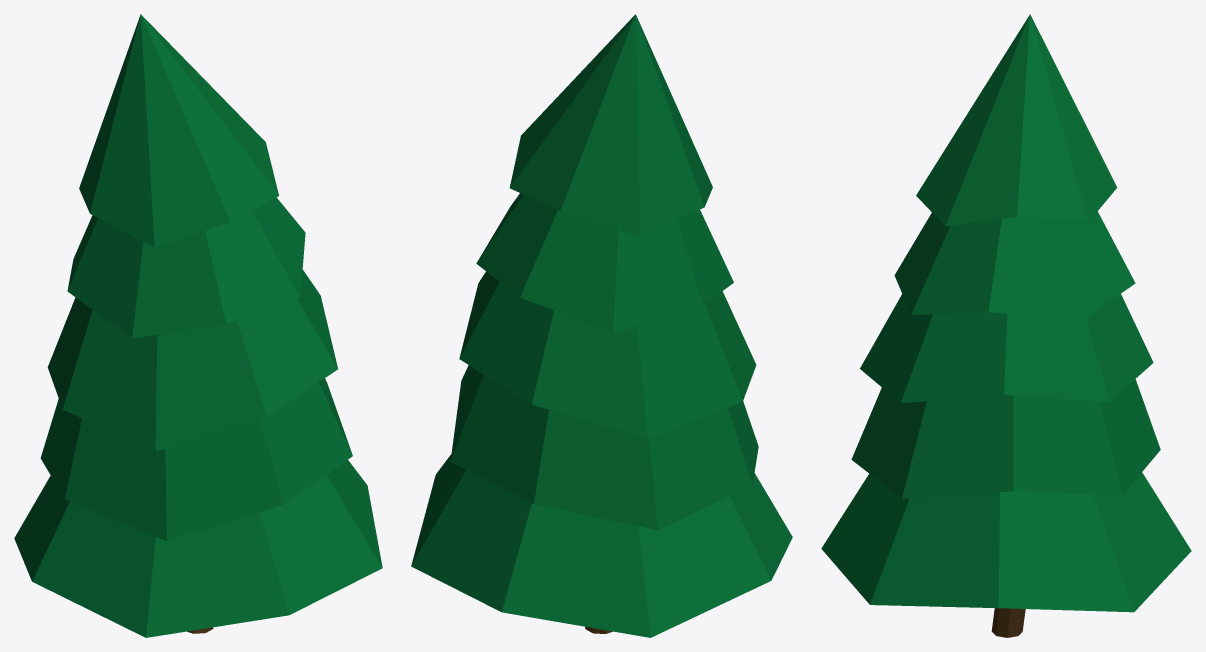
The model's file is pineTree04.fbx.
3 views of the same model, side by side, from view 1: azimuth 30°, elevation 25°; view 2: azimuth 150°, elevation 25°; view 3: azimuth 270°, elevation 25° (orthographic). The views are drawn at different scales.
Visible parts, largest first — view 1: pineTree04; view 2: pineTree04; view 3: pineTree04.
Part boxes in pixels (x1,y1,x2,y2): pineTree04: [14, 14, 382, 637]; pineTree04: [411, 14, 792, 637]; pineTree04: [821, 14, 1191, 637].
Size of the model in its own units: 251 by 445 by 251.
